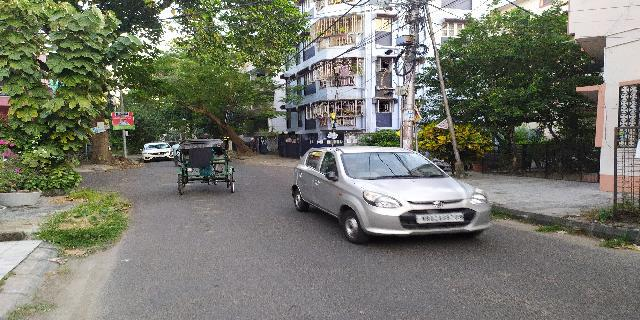Car: (289, 143, 495, 240), (138, 138, 174, 165)
Rickshaw: (171, 137, 237, 194)
